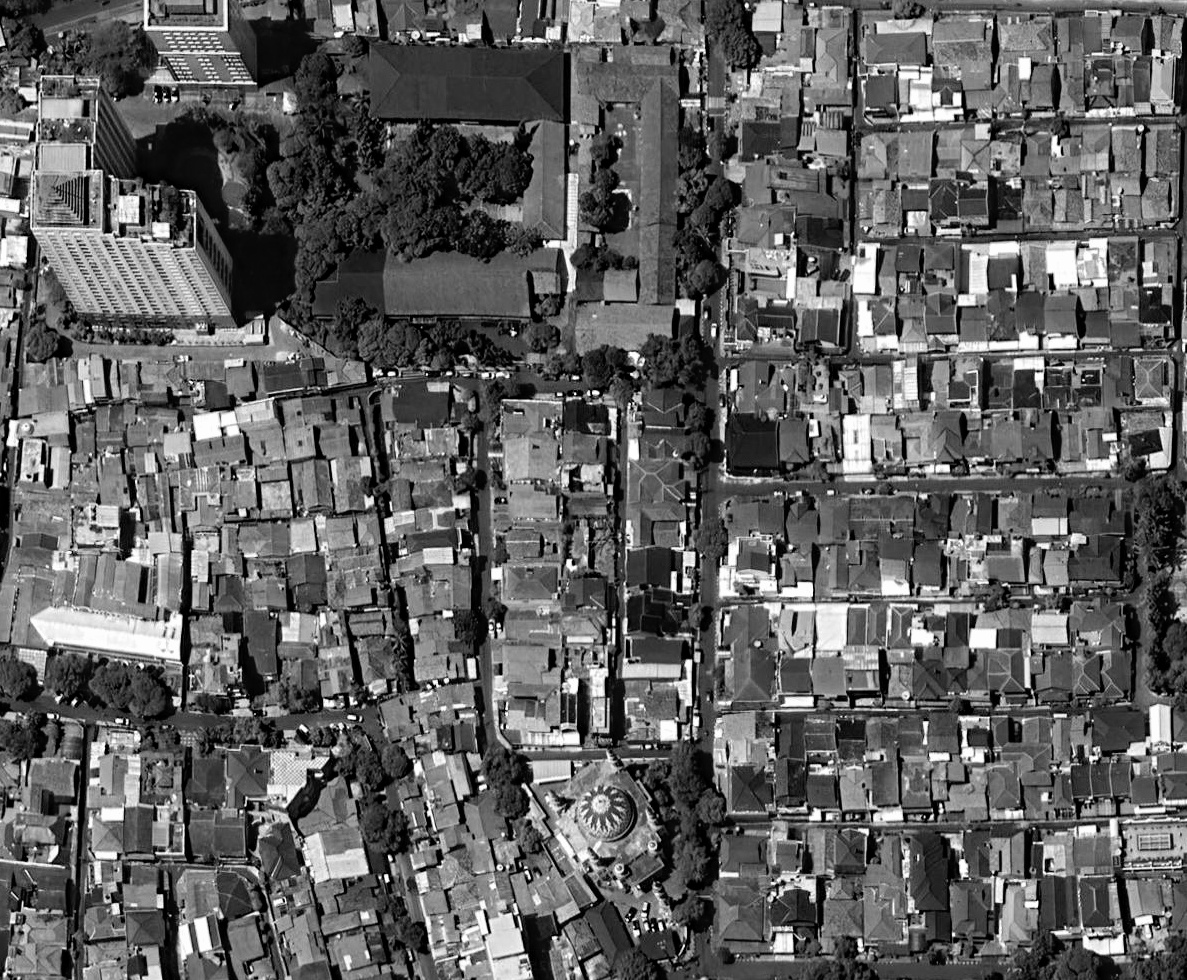building: (0, 29, 258, 385), (573, 45, 677, 305), (301, 234, 566, 331), (531, 745, 686, 909), (418, 858, 554, 979), (366, 46, 563, 120), (26, 595, 187, 661), (142, 1, 257, 86), (224, 724, 335, 810), (312, 871, 392, 978), (736, 154, 856, 225), (113, 400, 197, 487), (502, 852, 582, 937), (72, 551, 166, 622), (566, 773, 648, 854), (524, 760, 655, 810), (0, 564, 75, 651), (395, 544, 477, 619), (0, 858, 70, 940), (84, 715, 140, 812), (523, 122, 567, 240), (319, 546, 392, 617), (571, 305, 673, 355), (410, 615, 480, 687), (131, 730, 190, 814), (299, 822, 371, 889), (288, 773, 360, 837), (622, 680, 689, 747), (301, 391, 363, 459), (9, 910, 70, 979), (581, 896, 639, 966), (382, 380, 468, 427), (313, 607, 355, 703), (494, 683, 560, 743), (999, 716, 1052, 790), (710, 889, 771, 953), (184, 409, 250, 468), (479, 910, 534, 980), (929, 11, 992, 71), (249, 818, 305, 885), (1027, 647, 1102, 697), (728, 360, 796, 415), (858, 10, 926, 64), (713, 709, 777, 766), (861, 838, 906, 919), (730, 292, 796, 347), (234, 402, 288, 469), (274, 905, 330, 969), (10, 358, 70, 417), (1054, 412, 1111, 474), (276, 611, 319, 693), (0, 811, 66, 864), (188, 633, 245, 694), (17, 754, 79, 810), (455, 786, 510, 849), (211, 860, 267, 921), (620, 591, 691, 639), (796, 29, 849, 92), (188, 807, 247, 863), (1120, 412, 1174, 473), (907, 832, 949, 910), (766, 878, 818, 941), (720, 538, 776, 596), (410, 681, 479, 728), (796, 105, 852, 162), (724, 413, 777, 473), (68, 503, 125, 558), (848, 494, 917, 539), (172, 863, 222, 925), (622, 502, 684, 550), (415, 750, 458, 818), (327, 454, 374, 516), (721, 496, 785, 541), (1077, 875, 1122, 939), (817, 877, 863, 939), (1065, 537, 1124, 585), (390, 426, 463, 464), (495, 400, 561, 442), (183, 745, 225, 811), (718, 831, 773, 881), (501, 438, 558, 486), (996, 878, 1036, 946), (260, 356, 326, 397), (992, 11, 1052, 56), (734, 203, 790, 251), (626, 550, 693, 590), (504, 481, 562, 527), (627, 458, 686, 503), (619, 639, 687, 678), (278, 397, 317, 464), (500, 644, 561, 686), (19, 489, 99, 521), (243, 609, 279, 680), (1070, 602, 1128, 646), (723, 766, 773, 817), (950, 881, 992, 940), (437, 745, 479, 804), (958, 67, 1002, 122), (851, 242, 894, 298), (1072, 824, 1120, 874), (286, 553, 326, 613), (560, 397, 617, 439), (147, 552, 185, 615), (120, 860, 165, 913), (240, 560, 287, 610), (717, 604, 768, 650), (1089, 711, 1146, 752), (224, 911, 268, 964), (500, 563, 558, 603), (770, 604, 817, 653), (375, 693, 422, 742), (1067, 497, 1126, 536), (501, 604, 560, 643), (855, 296, 895, 353), (1039, 876, 1079, 933), (855, 131, 897, 185), (381, 1, 442, 38), (795, 301, 842, 349), (941, 772, 987, 821), (790, 216, 849, 254), (1081, 414, 1116, 477), (502, 525, 560, 563), (600, 262, 644, 312), (862, 887, 902, 942), (356, 634, 398, 686), (254, 465, 294, 519), (822, 366, 866, 415), (558, 864, 602, 913), (954, 124, 991, 182), (205, 523, 244, 578), (914, 660, 965, 701), (293, 459, 330, 515), (1140, 124, 1179, 177), (898, 760, 933, 819), (980, 628, 1023, 676), (1042, 292, 1078, 349), (306, 775, 364, 810), (1107, 286, 1141, 345), (303, 0, 353, 40), (866, 763, 900, 821), (1096, 646, 1136, 695), (517, 2, 567, 41), (1141, 283, 1177, 337), (896, 128, 934, 179), (1019, 65, 1057, 116), (1123, 876, 1165, 922), (80, 901, 126, 943), (137, 361, 184, 402), (81, 938, 128, 979), (734, 651, 771, 703), (858, 190, 897, 239), (1099, 357, 1135, 410), (1104, 11, 1147, 55), (176, 468, 219, 512), (1022, 417, 1054, 476), (1135, 354, 1172, 405), (984, 761, 1021, 812), (218, 466, 255, 517), (656, 1, 702, 42), (774, 759, 807, 816), (1053, 713, 1087, 768), (1077, 285, 1107, 347), (946, 361, 981, 414), (896, 69, 933, 119), (560, 574, 607, 613), (960, 417, 993, 472), (901, 414, 935, 467), (99, 454, 130, 512), (1010, 359, 1043, 413), (955, 180, 992, 228), (879, 542, 913, 594), (803, 761, 837, 813), (639, 389, 684, 428), (923, 712, 962, 757), (779, 545, 812, 598), (988, 65, 1021, 118), (842, 418, 872, 476), (844, 644, 880, 692), (990, 830, 1026, 878), (920, 298, 953, 350), (846, 542, 878, 595), (883, 649, 915, 702), (18, 408, 71, 440), (981, 545, 1025, 583), (1021, 181, 1055, 230), (343, 607, 392, 641), (986, 651, 1023, 696), (1019, 126, 1051, 178), (56, 354, 87, 407), (409, 482, 472, 508), (922, 246, 954, 297), (1050, 130, 1084, 178), (860, 73, 896, 118), (954, 298, 984, 352), (992, 416, 1019, 476), (933, 414, 964, 466), (1039, 832, 1074, 878), (238, 522, 284, 557), (986, 243, 1018, 293), (890, 360, 920, 413), (1083, 61, 1113, 114), (929, 71, 962, 119), (909, 544, 944, 589), (893, 297, 921, 353), (1080, 174, 1109, 228), (1119, 61, 1148, 115), (914, 493, 948, 539), (481, 2, 521, 41), (987, 296, 1017, 348), (1070, 358, 1100, 410), (124, 909, 166, 946), (859, 365, 890, 415), (996, 493, 1031, 537), (961, 830, 991, 881), (990, 182, 1021, 231), (872, 416, 903, 465), (958, 720, 989, 769), (815, 498, 848, 544), (894, 716, 927, 762), (775, 656, 812, 697), (1139, 178, 1175, 220), (323, 355, 366, 390), (865, 716, 897, 763), (1112, 127, 1143, 175), (956, 243, 985, 294), (810, 657, 846, 698), (1140, 237, 1176, 278), (1047, 240, 1077, 289), (445, 2, 480, 44), (802, 713, 836, 756), (1150, 56, 1177, 110), (1076, 237, 1107, 284), (123, 805, 154, 852), (920, 361, 948, 413), (1055, 63, 1083, 115), (1107, 235, 1137, 283), (837, 768, 867, 816), (398, 461, 458, 485), (620, 1, 654, 43), (403, 530, 460, 555), (90, 816, 123, 859), (836, 718, 866, 765), (776, 419, 808, 463), (832, 829, 869, 867), (416, 509, 468, 536), (184, 498, 224, 533), (926, 182, 959, 224), (93, 404, 123, 450), (560, 437, 611, 464), (1017, 293, 1042, 348), (1043, 362, 1071, 411), (892, 246, 920, 295), (126, 944, 164, 980), (990, 131, 1019, 178), (774, 719, 803, 766), (207, 577, 247, 611), (636, 930, 676, 964), (560, 611, 610, 638), (971, 607, 1027, 631), (809, 830, 837, 878), (405, 839, 443, 874), (739, 122, 778, 156), (1021, 241, 1048, 290), (774, 838, 806, 879), (288, 515, 319, 557), (1029, 610, 1067, 644), (1081, 128, 1111, 171), (351, 1, 383, 41), (191, 914, 223, 954), (985, 364, 1011, 413), (1152, 14, 1183, 55), (57, 719, 88, 760), (934, 131, 961, 178), (785, 501, 815, 543), (17, 438, 44, 484), (1040, 550, 1071, 590), (814, 608, 842, 652), (899, 187, 927, 231), (48, 446, 76, 490), (929, 764, 961, 802), (113, 359, 141, 402), (594, 1, 622, 43), (78, 355, 103, 402), (182, 954, 229, 979), (866, 602, 890, 650), (966, 491, 991, 537), (449, 714, 477, 755), (192, 614, 226, 647), (567, 2, 595, 42), (435, 822, 470, 854), (1081, 12, 1107, 55), (941, 610, 971, 647), (429, 799, 462, 832), (418, 885, 450, 919), (489, 835, 520, 870), (468, 837, 496, 875), (1057, 18, 1082, 60), (325, 515, 355, 550), (69, 415, 94, 456), (1146, 703, 1168, 749), (827, 544, 848, 592), (1049, 774, 1073, 816), (353, 512, 381, 548), (396, 780, 424, 816), (890, 604, 913, 647), (1054, 189, 1081, 225), (69, 459, 96, 495), (180, 363, 226, 384), (144, 530, 181, 556), (574, 272, 605, 303), (1131, 777, 1162, 808), (386, 479, 415, 512), (226, 363, 253, 398), (1029, 491, 1066, 515), (1108, 762, 1132, 799), (937, 646, 971, 672), (922, 913, 951, 943), (292, 958, 332, 979), (846, 605, 864, 650), (1087, 763, 1110, 798), (1169, 881, 1185, 931), (1162, 774, 1186, 806), (1022, 792, 1048, 821), (1069, 765, 1090, 800), (93, 860, 120, 887), (989, 717, 1011, 749), (1157, 751, 1186, 774), (966, 668, 989, 697), (460, 791, 495, 810), (652, 524, 681, 546), (1170, 710, 1186, 749), (152, 820, 172, 851), (1110, 174, 1139, 193), (413, 870, 431, 894)
tree: (239, 112, 351, 230), (84, 653, 181, 728), (449, 134, 534, 212), (375, 120, 457, 200), (291, 185, 349, 297), (75, 14, 148, 97), (353, 316, 451, 374), (374, 195, 460, 261), (476, 739, 537, 821), (699, 0, 765, 74), (325, 91, 384, 173), (326, 189, 394, 260), (682, 175, 743, 241), (288, 50, 343, 121), (463, 364, 521, 426), (639, 333, 708, 385), (575, 165, 630, 230), (577, 344, 633, 407), (331, 744, 388, 802), (0, 709, 55, 765), (357, 798, 410, 856), (34, 32, 93, 84), (454, 208, 508, 263), (1125, 935, 1187, 980), (1129, 470, 1187, 518), (674, 254, 725, 304), (326, 296, 368, 355), (459, 326, 509, 375), (214, 176, 266, 223), (665, 835, 712, 887), (663, 741, 701, 805), (268, 678, 323, 720), (16, 320, 66, 364), (502, 814, 549, 860), (667, 891, 713, 936), (38, 268, 74, 322), (47, 654, 91, 698), (1046, 947, 1104, 979), (374, 742, 416, 785), (1021, 925, 1064, 967), (674, 426, 716, 468), (691, 785, 731, 827), (1, 21, 44, 60), (570, 243, 625, 273), (231, 144, 271, 185), (675, 166, 707, 216), (250, 202, 290, 241), (389, 613, 414, 675), (687, 519, 724, 560), (1130, 535, 1169, 573), (427, 317, 467, 354), (803, 958, 876, 978), (233, 716, 281, 746), (274, 295, 314, 330), (677, 399, 714, 436), (1133, 595, 1170, 632), (0, 660, 36, 698), (298, 316, 338, 349), (615, 950, 658, 980), (675, 128, 704, 172), (674, 227, 703, 270), (1008, 949, 1049, 979), (394, 916, 425, 955), (502, 220, 538, 253), (0, 81, 31, 119), (520, 321, 561, 349), (539, 352, 582, 378), (39, 718, 64, 761), (191, 691, 229, 719), (1135, 513, 1171, 542), (591, 131, 618, 169), (140, 721, 180, 746), (192, 723, 233, 747), (630, 760, 665, 788), (64, 318, 96, 347), (1161, 623, 1186, 660), (1, 1, 49, 19), (681, 603, 709, 633), (805, 456, 833, 484), (531, 297, 562, 321), (306, 115, 332, 143), (382, 892, 408, 919), (655, 802, 681, 829), (459, 610, 484, 638), (209, 129, 235, 155), (145, 323, 171, 349), (676, 810, 702, 836), (1146, 573, 1171, 600), (832, 936, 860, 960), (1164, 659, 1185, 691), (799, 364, 817, 400), (707, 131, 729, 160), (244, 116, 269, 141), (483, 542, 508, 567), (480, 463, 505, 487), (306, 725, 334, 746), (1120, 459, 1144, 482), (1046, 114, 1070, 137), (337, 35, 363, 56), (92, 327, 116, 349), (1039, 591, 1065, 611), (459, 410, 482, 432), (1142, 666, 1164, 689), (459, 468, 483, 489), (385, 947, 409, 968), (485, 596, 507, 618), (986, 583, 1006, 606), (1142, 644, 1163, 664), (714, 216, 732, 238), (1144, 626, 1163, 646), (127, 329, 149, 346), (802, 346, 821, 365), (716, 948, 737, 965), (651, 789, 669, 808), (111, 329, 131, 346), (346, 684, 364, 702), (346, 724, 364, 742), (892, 0, 913, 15), (731, 580, 747, 596), (927, 949, 943, 965), (458, 389, 473, 403), (1172, 695, 1186, 709), (960, 944, 974, 957), (1141, 656, 1154, 670), (360, 476, 372, 490)
